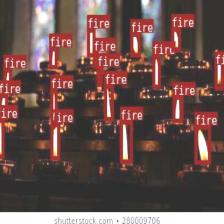fire: (194, 125, 210, 164), (120, 119, 132, 162), (214, 51, 224, 90), (50, 122, 59, 159), (104, 85, 113, 120), (172, 95, 183, 122), (152, 54, 160, 88), (50, 88, 57, 124), (86, 28, 95, 56), (130, 33, 140, 56), (170, 27, 180, 50), (3, 68, 11, 94), (0, 93, 7, 119), (49, 47, 57, 68), (0, 118, 4, 157), (96, 66, 102, 86), (93, 51, 98, 67)
